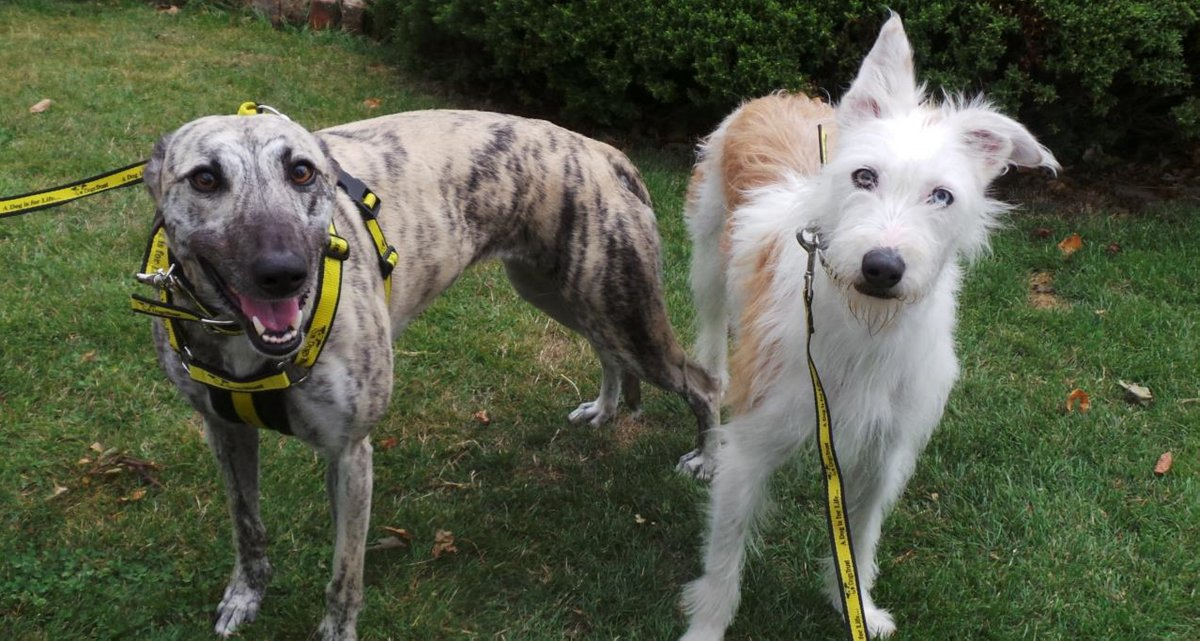dog: (135, 105, 677, 602), (686, 43, 1001, 630)
